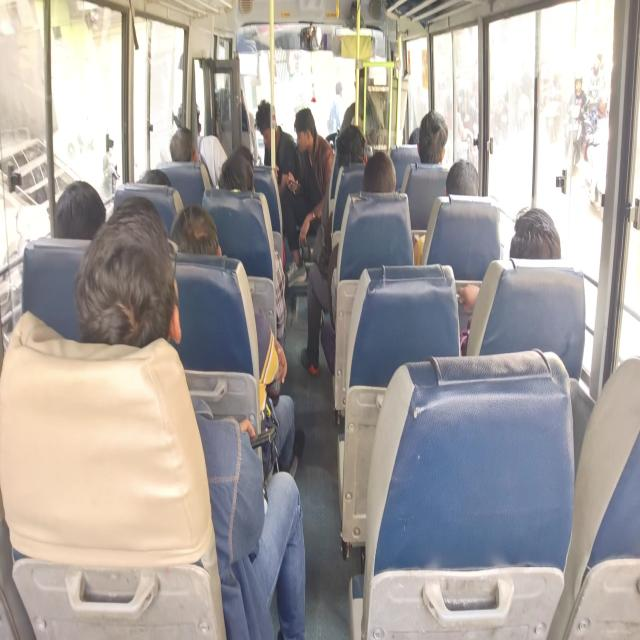person: (86, 218, 172, 362), (170, 198, 216, 281), (515, 202, 557, 278), (59, 176, 98, 231), (363, 153, 400, 208), (164, 126, 206, 174), (221, 156, 261, 205), (442, 168, 470, 219), (142, 160, 178, 198), (175, 104, 208, 142), (422, 115, 446, 166), (256, 102, 286, 138), (340, 130, 358, 163), (298, 120, 316, 151), (236, 140, 255, 169), (411, 129, 429, 158)
